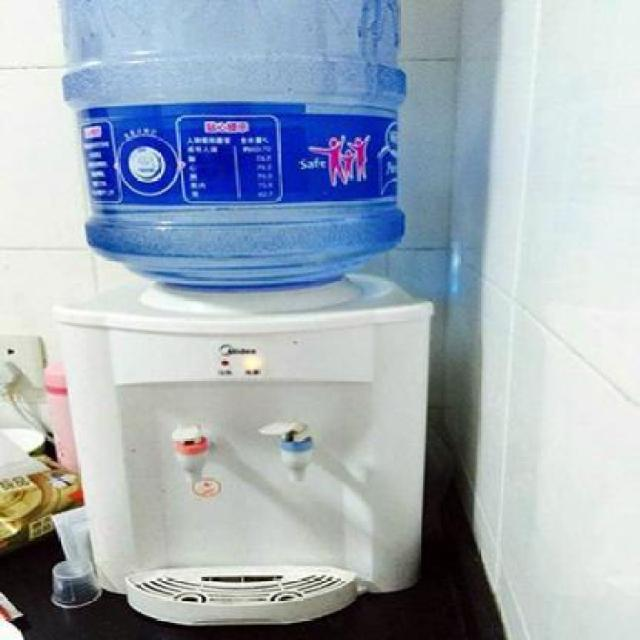cooler: (52, 0, 440, 640)
